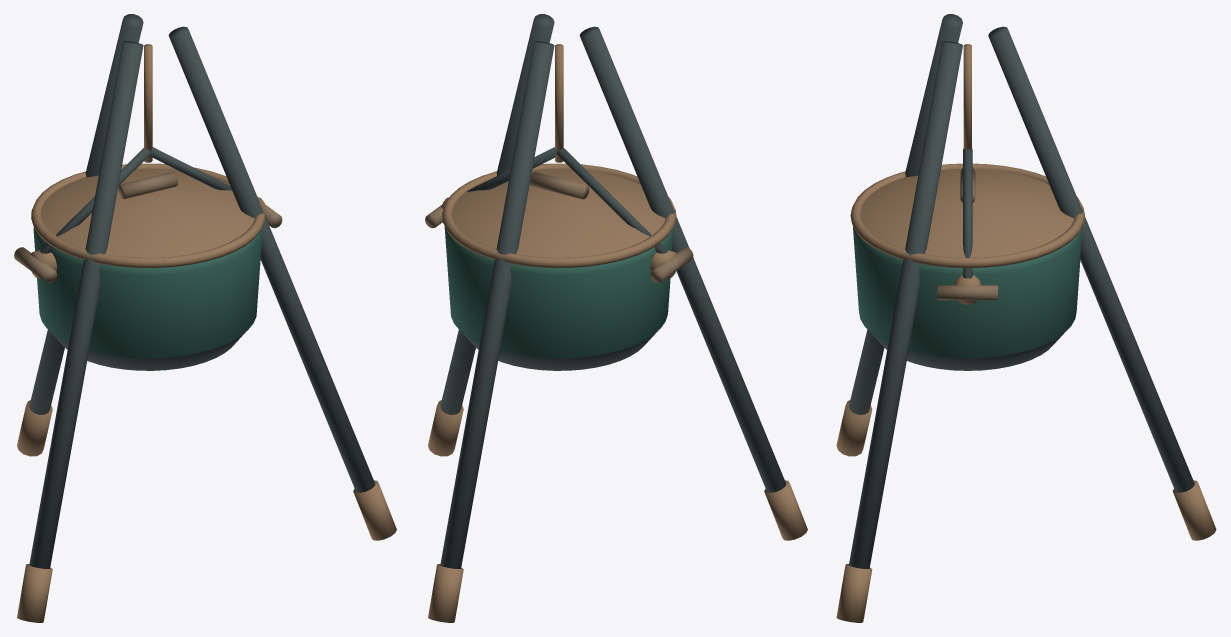
File: cookset.glb
The picture shows the model from 3 angles, left to right: view 1: azimuth 30°, elevation 25°; view 2: azimuth 150°, elevation 25°; view 3: azimuth 270°, elevation 25°; orthographic projection.
Parts seen in each view (by area): view 1: Soot on the base, Domed copper lid, Salvaged enamel vessel, Lid grip; view 2: Soot on the base, Domed copper lid, Salvaged enamel vessel, Lid grip; view 3: Soot on the base, Domed copper lid, Salvaged enamel vessel, Lid grip.
Part boxes in pixels (left/top/right/bottom): Soot on the base: left=29, top=14, right=375, bottom=568; Domed copper lid: left=17, top=44, right=396, bottom=622; Salvaged enamel vessel: left=33, top=227, right=262, bottom=358; Lid grip: left=14, top=172, right=282, bottom=282; Soot on the base: left=440, top=14, right=786, bottom=568; Domed copper lid: left=428, top=44, right=807, bottom=622; Salvaged enamel vessel: left=444, top=226, right=673, bottom=358; Lid grip: left=425, top=172, right=693, bottom=282; Soot on the base: left=849, top=14, right=1194, bottom=568; Domed copper lid: left=836, top=44, right=1216, bottom=622; Salvaged enamel vessel: left=853, top=226, right=1081, bottom=358; Lid grip: left=937, top=168, right=997, bottom=300.
Bounding box in the file's own units: 1.44 × 1.86 × 1.26.
